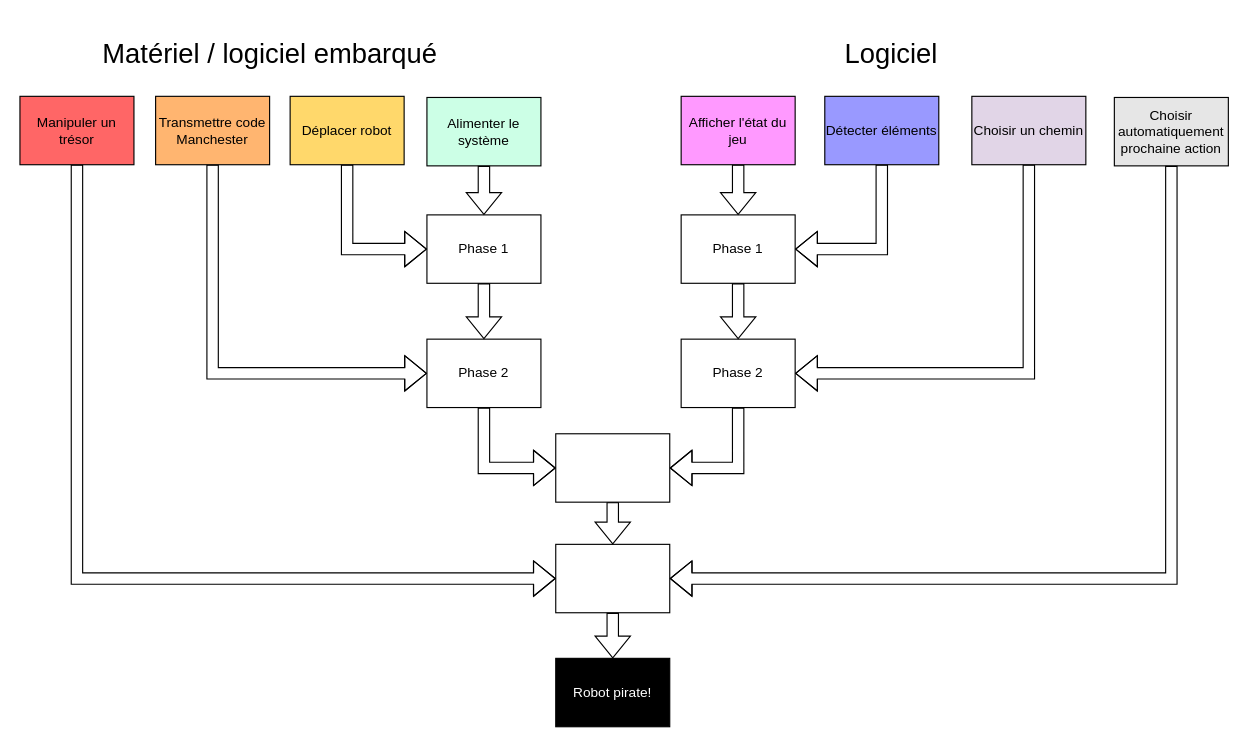
Image size: 1248x747. Some labels were removed from this diagram. Here are the shapes that lost their labels. From the top down, the centre of each, then its label:
At (x=612, y=467): "Phase 3".
At (x=612, y=578): "Phase 4".
